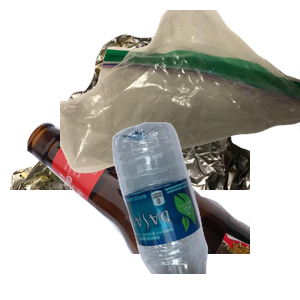glass: (25, 120, 265, 300)
metal: (10, 32, 250, 212)
plastic: (110, 120, 300, 300)
trash: (60, 10, 300, 176)
